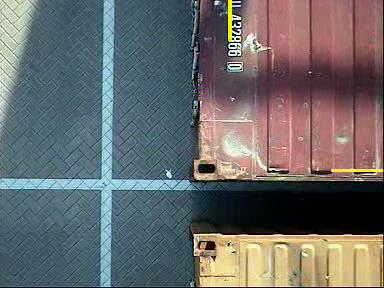groundmarker_2: (64, 178, 150, 236)
